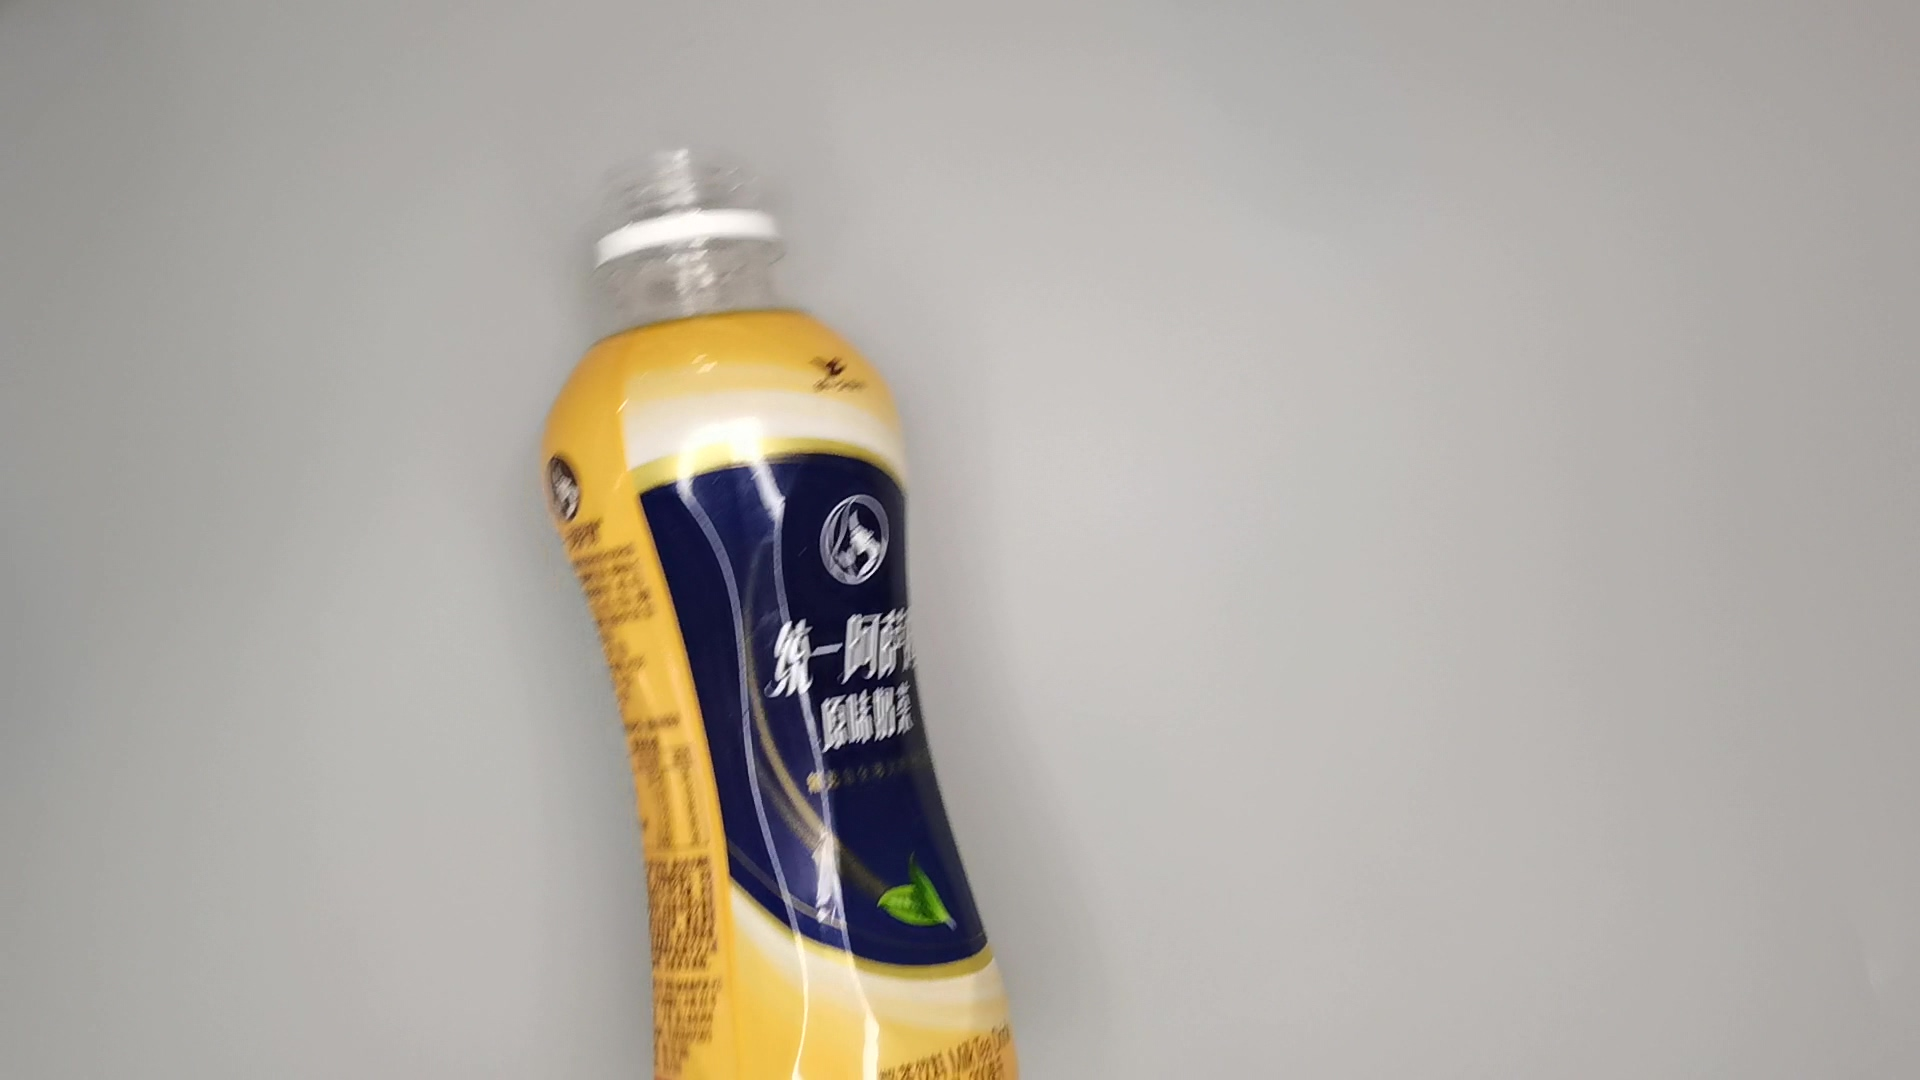bottle: (530, 141, 1062, 1080)
